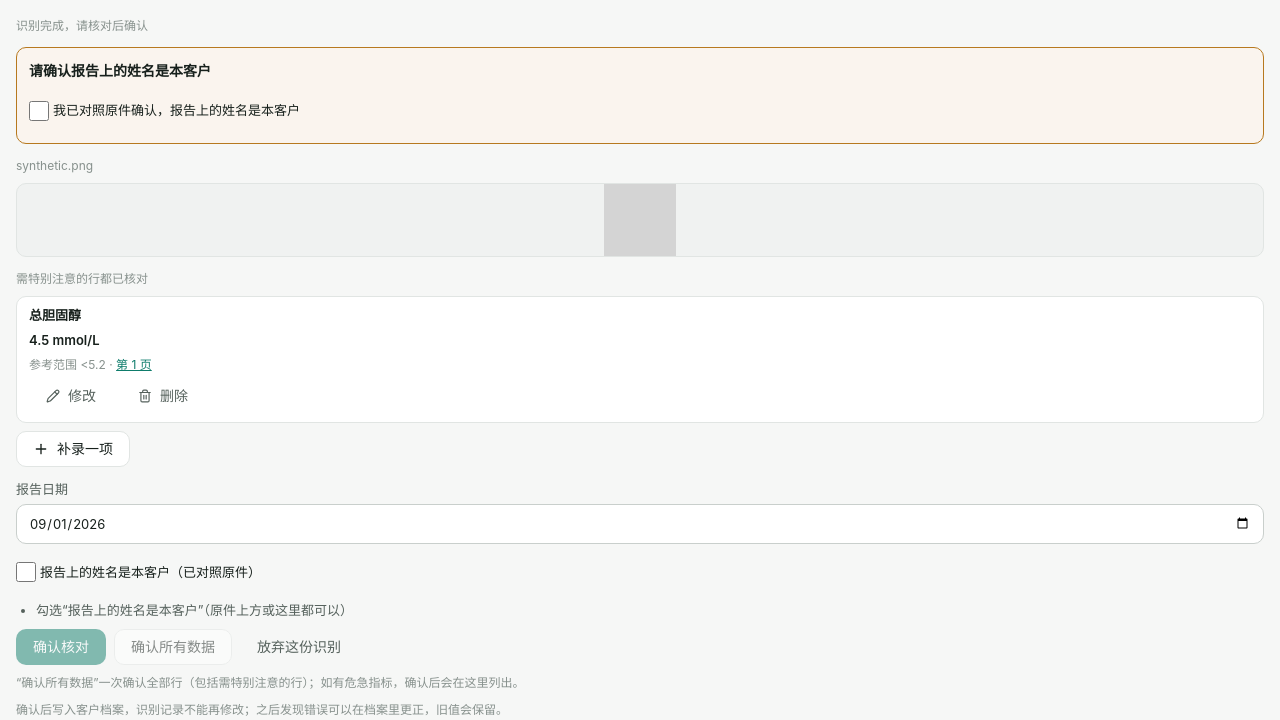
核对界面 › 验收反馈 4：原件上方固定提醒核对姓名，勾选前两个确认按钮都不能点
The width and height of the screenshot is (1280, 720).
Expected: the button "确认核对" is disabled, [16,629,106,665]
Expected: the button "确认所有数据" is disabled, [114,629,232,665]
Click the checkbox labelled "我已对照原件确认，报告上的姓名是本客户".
click(39, 111)  # box [29,101,49,121]
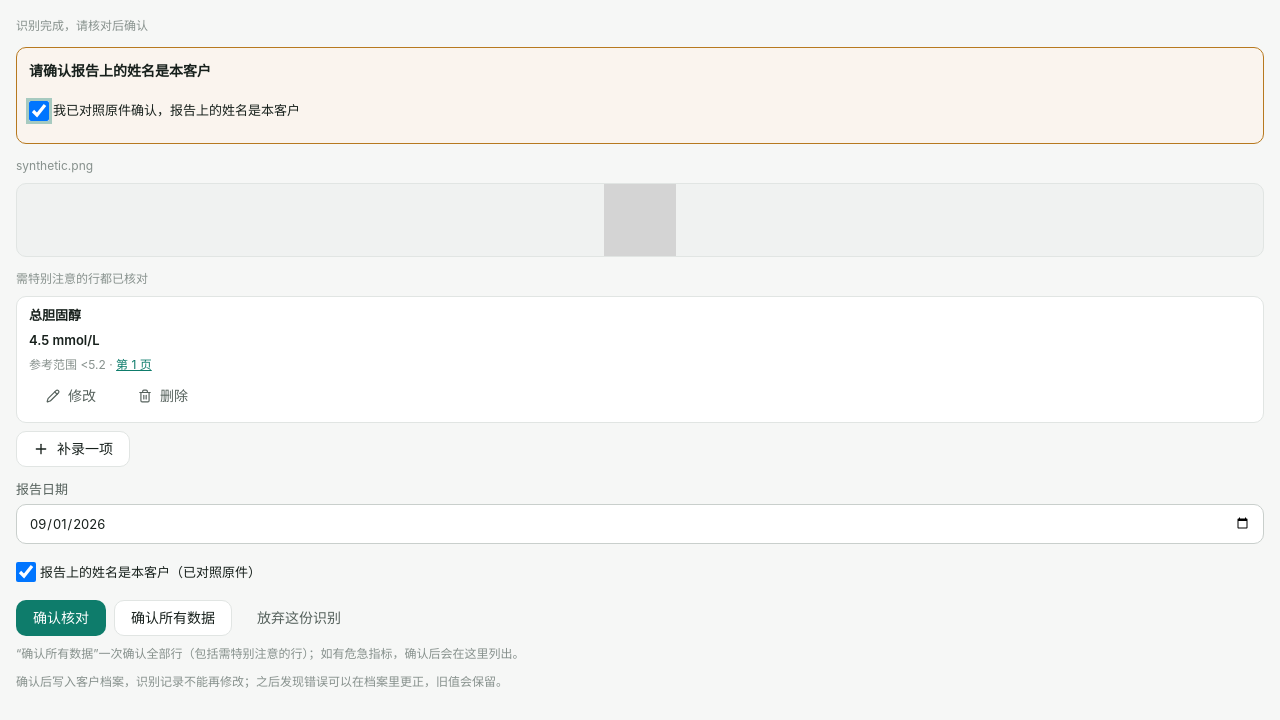
Expected: the button "确认核对" is enabled, [16,600,106,636]
Expected: the button "确认所有数据" is enabled, [114,600,232,636]
Click the checkbox labelled "我已对照原件确认，报告上的姓名是本客户".
click(39, 111)  # box [29,101,49,121]
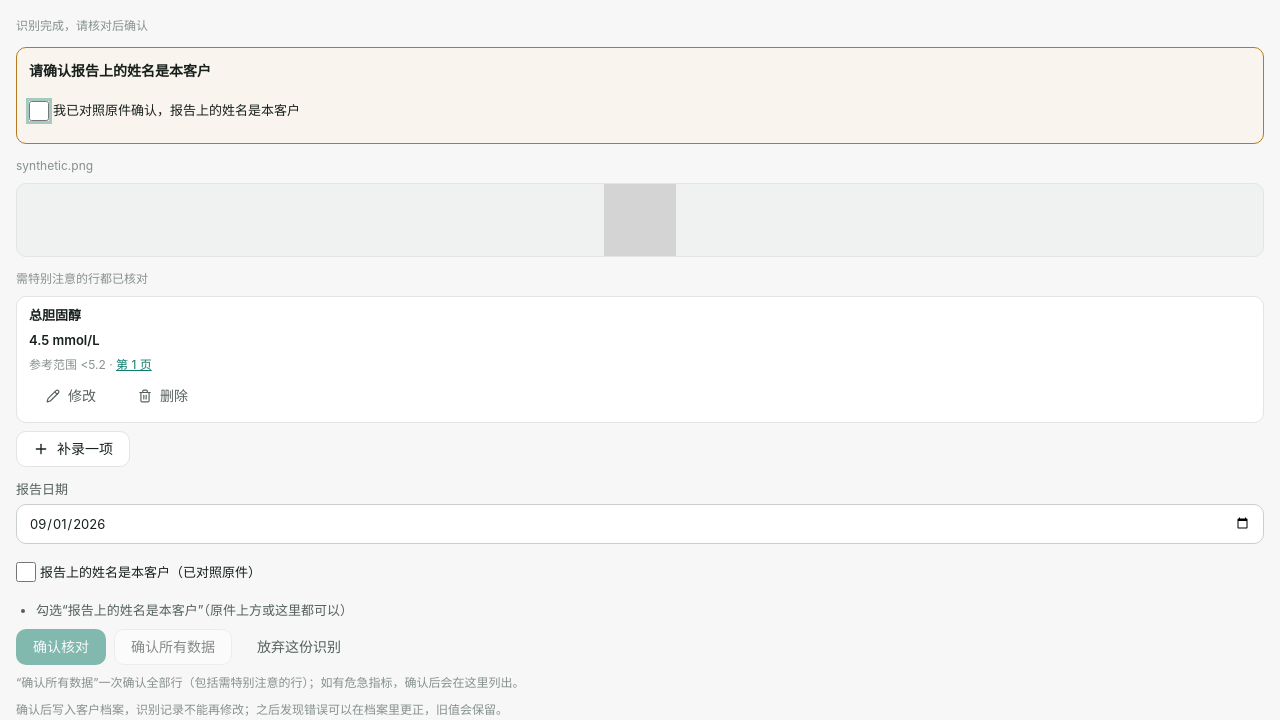
Expected: the button "确认核对" is disabled, [16,629,106,665]
Expected: the button "确认所有数据" is disabled, [114,629,232,665]
